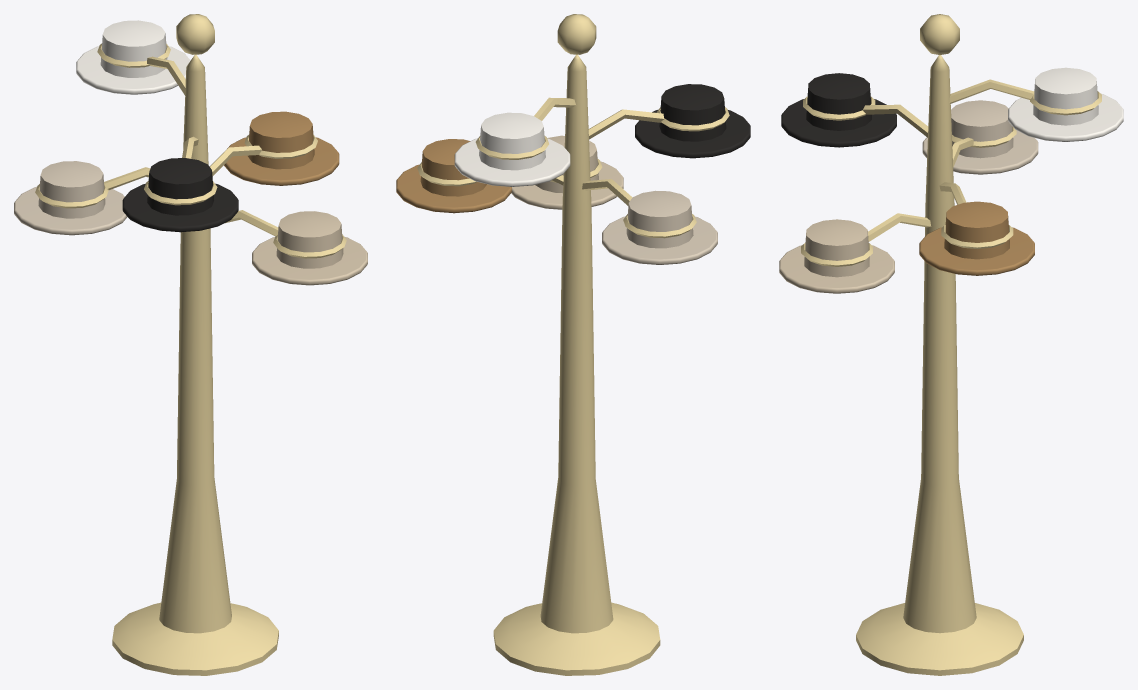
File: hat_tree_gold.glb
3 views of the same model, side by side, from view 1: azimuth 30°, elevation 25°; view 2: azimuth 150°, elevation 25°; view 3: azimuth 270°, elevation 25° (orthographic).
Parts seen in each view (by area): view 1: hat_tree_gold; view 2: hat_tree_gold; view 3: hat_tree_gold.
Part boxes in pixels (bbox=[...]): hat_tree_gold: bbox=[14, 14, 367, 675]; hat_tree_gold: bbox=[396, 14, 750, 675]; hat_tree_gold: bbox=[779, 14, 1123, 675].
Size of the model in its own units: 0.8506 by 1.65 by 0.8209.
